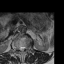CCS_normal: (21, 44, 23, 53)
LFS_stenosis: (25, 44, 27, 51)
LLS_normal: (23, 44, 25, 52)
RFS_normal: (17, 44, 19, 51)
RLS_normal: (19, 44, 21, 52)
